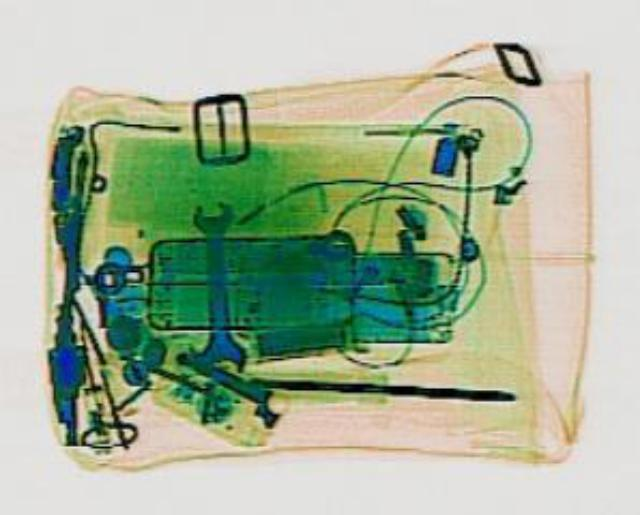Wrench: (184, 198, 244, 369)
